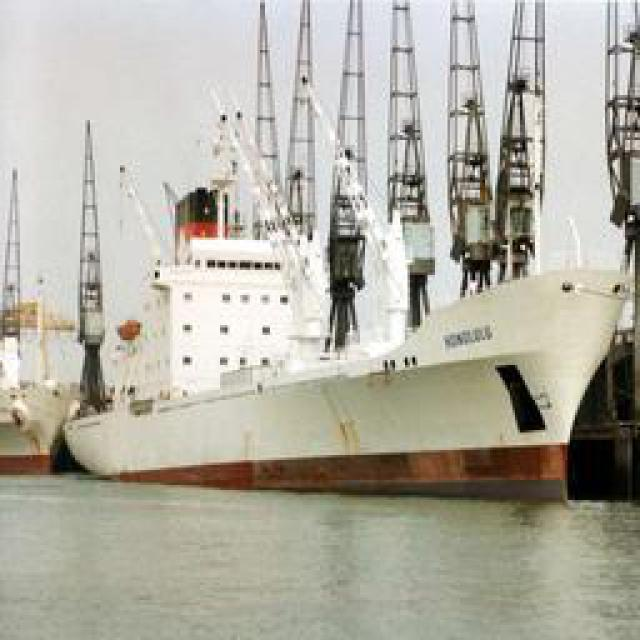Ship: (45, 103, 633, 488)
